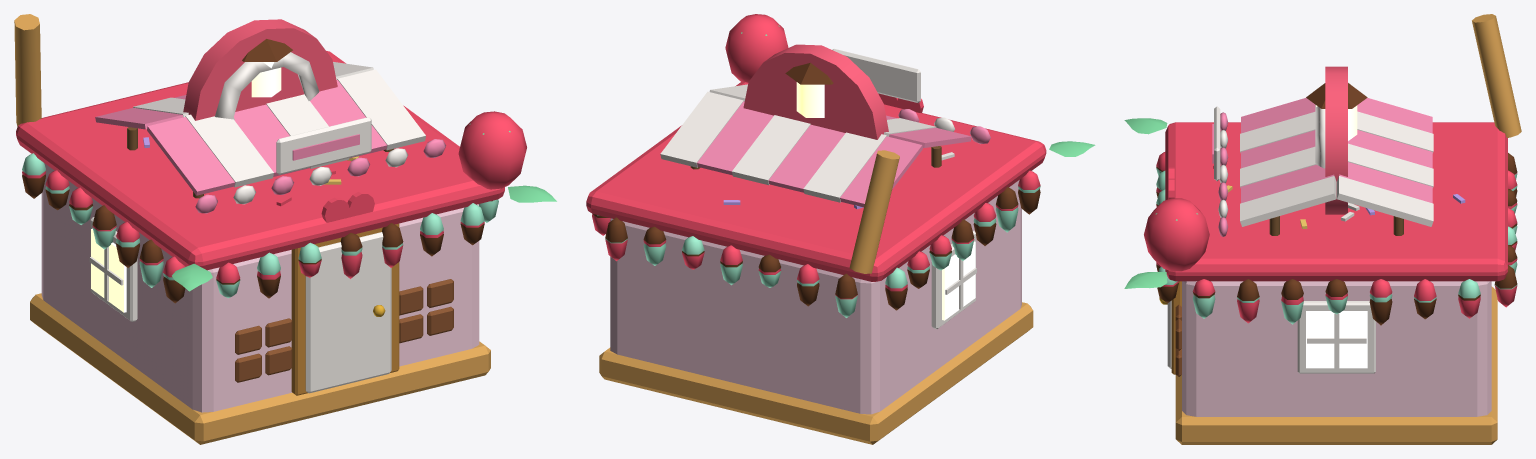
Rendered from vila-doce-props.glb.
3 renders of one model, left to right at view 1: azimuth 30°, elevation 25°; view 2: azimuth 150°, elevation 25°; view 3: azimuth 270°, elevation 25°, orthographic. The views are drawn at different scales.
Visible parts, largest first — view 1: casinha-a, barraca, casinha-b, pirulito, casinha-c, lampiao; view 2: casinha-a, barraca, pirulito, casinha-b, casinha-c, lampiao; view 3: casinha-a, barraca, casinha-b, casinha-c, pirulito, lampiao.
Boxes of the visible parts, x1,y1,x2,y2 form: casinha-a: (16, 51, 526, 444); barraca: (95, 62, 445, 213); casinha-b: (14, 14, 492, 382); pirulito: (183, 19, 337, 120); casinha-c: (22, 137, 556, 298); lampiao: (242, 39, 292, 97); casinha-a: (586, 14, 1046, 444); barraca: (660, 48, 990, 207); pirulito: (743, 44, 888, 139); casinha-b: (593, 150, 1040, 310); casinha-c: (597, 141, 1095, 317); lampiao: (785, 63, 833, 117); casinha-a: (1144, 122, 1517, 444); barraca: (1212, 98, 1433, 236); casinha-b: (1156, 14, 1521, 376); casinha-c: (1124, 118, 1517, 324); pirulito: (1315, 66, 1347, 214); lampiao: (1306, 83, 1367, 140).
Bounding box in the file's own units: 3.89 × 3.27 × 3.85.
